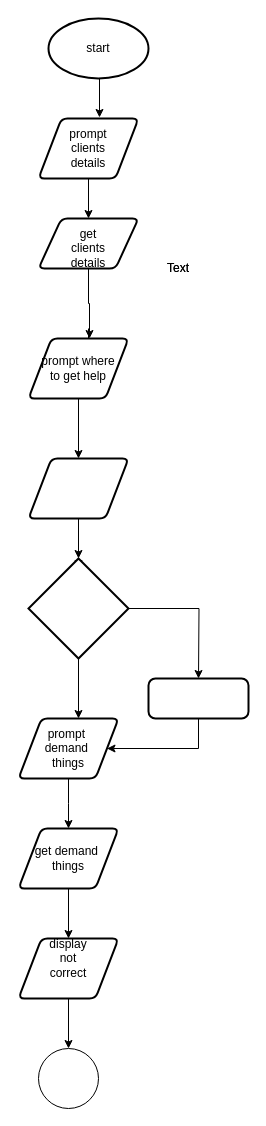
This 266x1126 diagram has some shape labels left out. Each missing label, with the centre of its shape:
"clients details== correct" goes at pixel 78 608.
"end" goes at pixel 68 1078.
"get where to help" goes at pixel 78 488.
"where we help== correct" goes at pixel 198 698.
